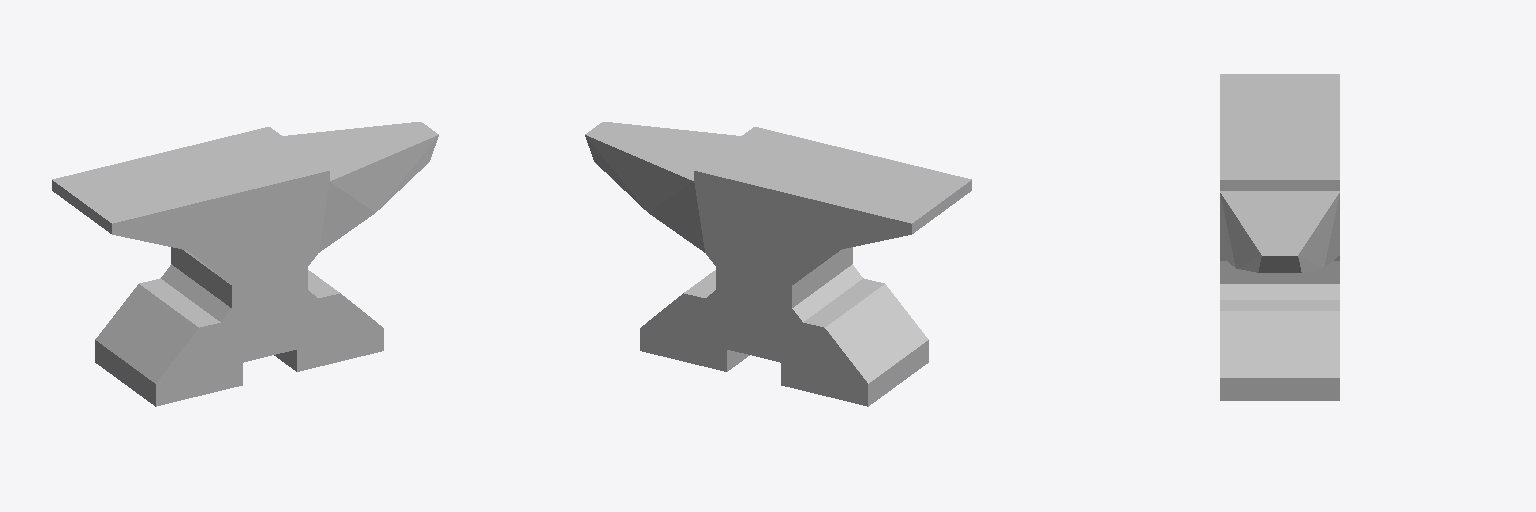
Rendered from Anvil.obj.
3 views of the same model, side by side, from view 1: azimuth 30°, elevation 25°; view 2: azimuth 150°, elevation 25°; view 3: azimuth 270°, elevation 25° (orthographic).
Visible parts, largest first — view 1: Grid_Grid.001; view 2: Grid_Grid.001; view 3: Grid_Grid.001.
Part boxes in pixels (bbox=[...]): Grid_Grid.001: bbox=[52, 122, 438, 406]; Grid_Grid.001: bbox=[585, 122, 971, 406]; Grid_Grid.001: bbox=[1220, 74, 1339, 400].
Bounding box in the file's own units: 1 × 0.5312 × 0.3.